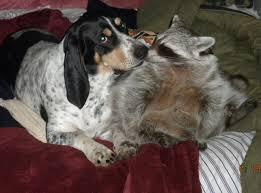raccoon: (108, 7, 261, 166)
